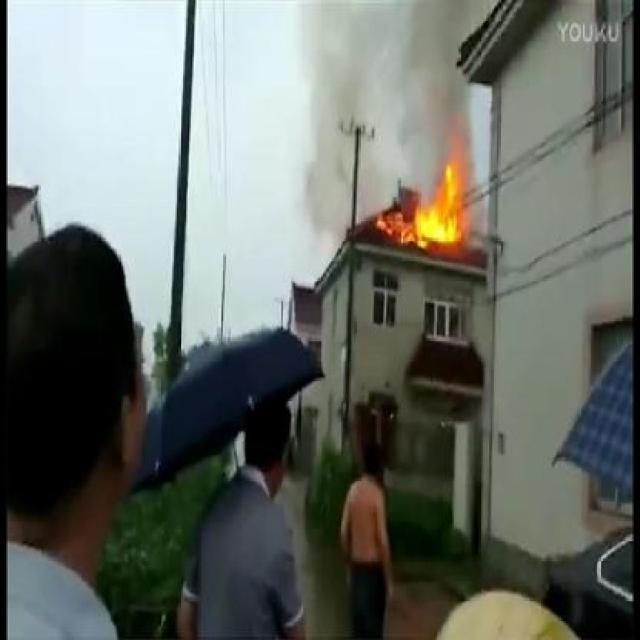Fire: (370, 158, 464, 255)
Smoke: (307, 1, 468, 160), (306, 161, 369, 243)
